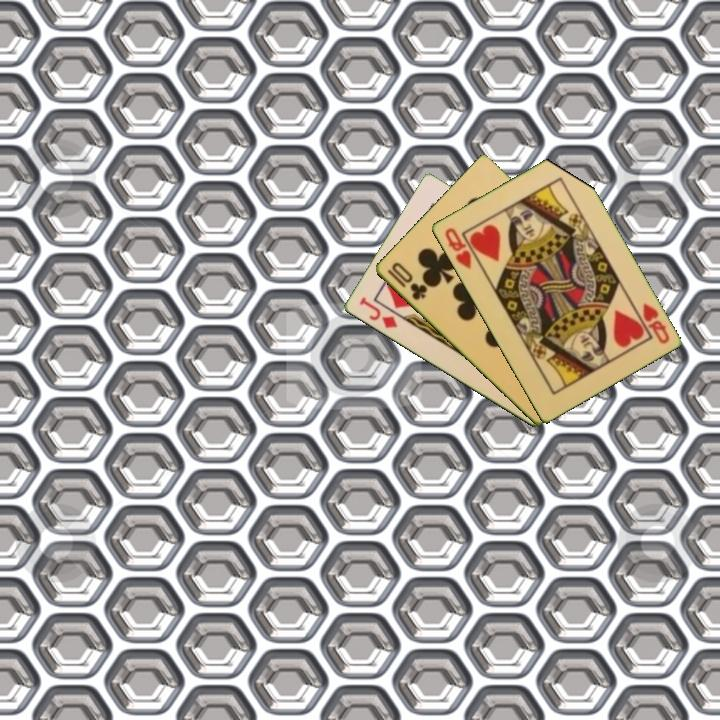10c: (383, 258, 430, 303)
Jd: (355, 294, 400, 331)
Qh: (441, 224, 474, 272), (639, 299, 672, 347)
